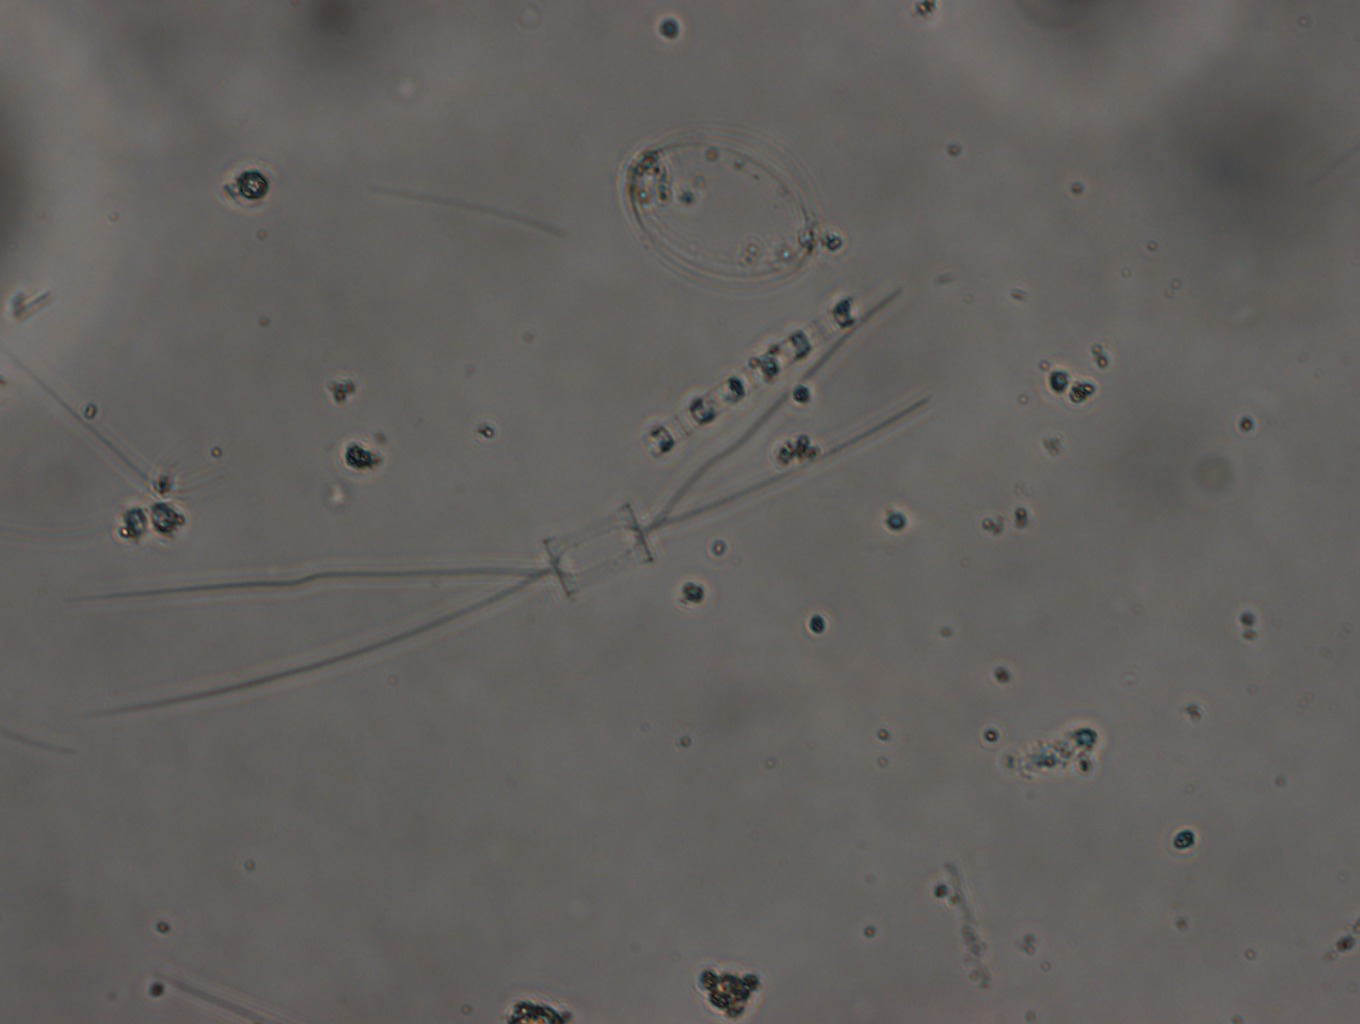chaetoceros: (74, 285, 932, 730)
skeletonema: (644, 265, 875, 478)
